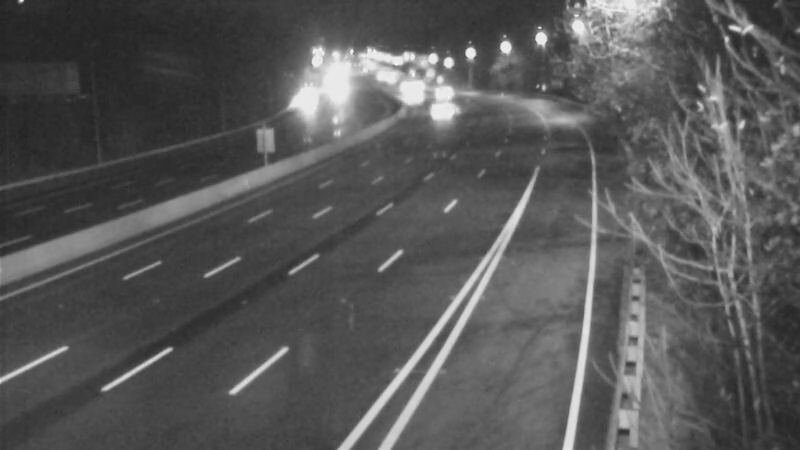vehicle: (418, 67, 468, 117), (388, 71, 438, 121), (413, 87, 463, 137)
